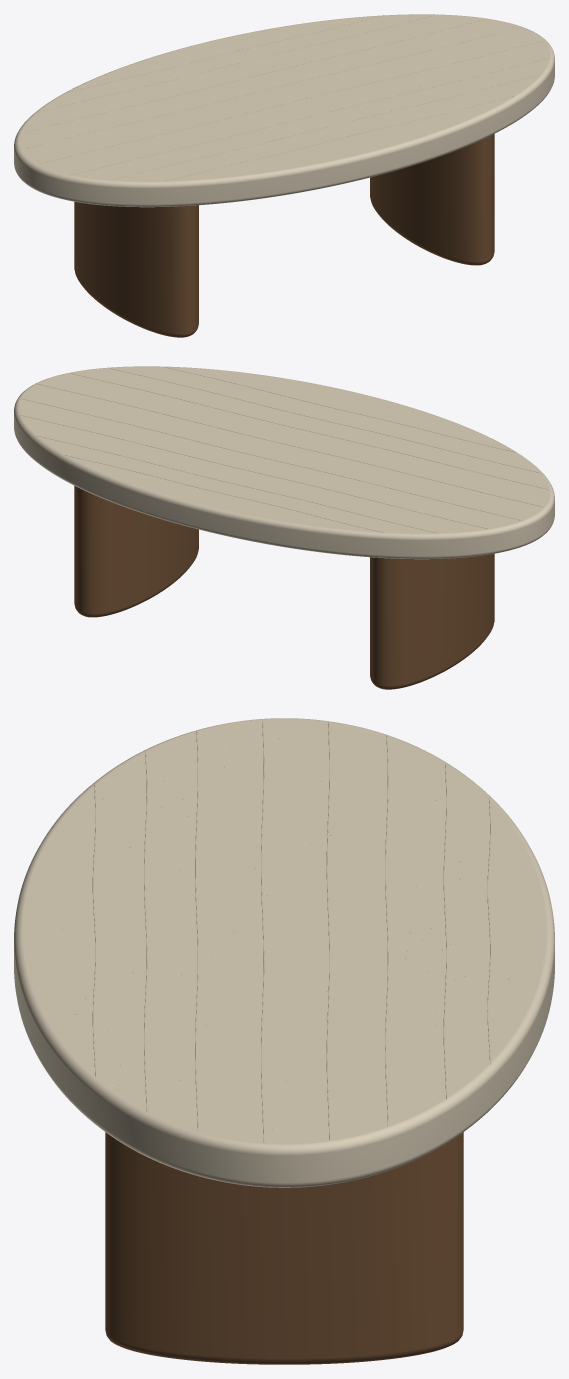
File: coffee-table.glb
The picture shows the model from 3 angles, top to bottom: view 1: azimuth 30°, elevation 25°; view 2: azimuth 150°, elevation 25°; view 3: azimuth 270°, elevation 25°; orthographic projection. The views are drawn at different scales.
Visible parts, largest first — view 1: Oval solid travertine top, Sculpted walnut oval support, Sculpted walnut oval support.001, Mineral sediment line.004, Mineral sediment line.003, Mineral sediment line.002, Mineral sediment line.005, Mineral sediment line.001, Mineral sediment line.006; view 2: Oval solid travertine top, Sculpted walnut oval support, Sculpted walnut oval support.001, Mineral sediment line.003, Mineral sediment line.004, Mineral sediment line.002, Mineral sediment line.005, Mineral sediment line.001, Mineral sediment line.006; view 3: Oval solid travertine top, Sculpted walnut oval support.001.
Part boxes in pixels (bbox=[...]): Oval solid travertine top: bbox=[14, 14, 554, 207]; Sculpted walnut oval support: bbox=[74, 201, 198, 337]; Sculpted walnut oval support.001: bbox=[370, 134, 494, 265]; Mineral sediment line.004: bbox=[22, 27, 520, 149]; Mineral sediment line.003: bbox=[38, 41, 542, 164]; Mineral sediment line.002: bbox=[71, 58, 548, 175]; Mineral sediment line.005: bbox=[21, 19, 487, 133]; Mineral sediment line.001: bbox=[109, 75, 539, 180]; Mineral sediment line.006: bbox=[37, 14, 437, 112]; Oval solid travertine top: bbox=[14, 366, 554, 559]; Sculpted walnut oval support: bbox=[370, 553, 494, 689]; Sculpted walnut oval support.001: bbox=[74, 486, 198, 617]; Mineral sediment line.003: bbox=[38, 384, 542, 506]; Mineral sediment line.004: bbox=[21, 398, 521, 520]; Mineral sediment line.002: bbox=[70, 373, 548, 489]; Mineral sediment line.005: bbox=[20, 415, 487, 528]; Mineral sediment line.001: bbox=[109, 368, 539, 472]; Mineral sediment line.006: bbox=[36, 435, 437, 533]; Oval solid travertine top: bbox=[14, 718, 554, 1187]; Sculpted walnut oval support.001: bbox=[105, 1132, 463, 1364].
Bounding box in the file's own units: 1.4 × 0.4307 × 0.74.
